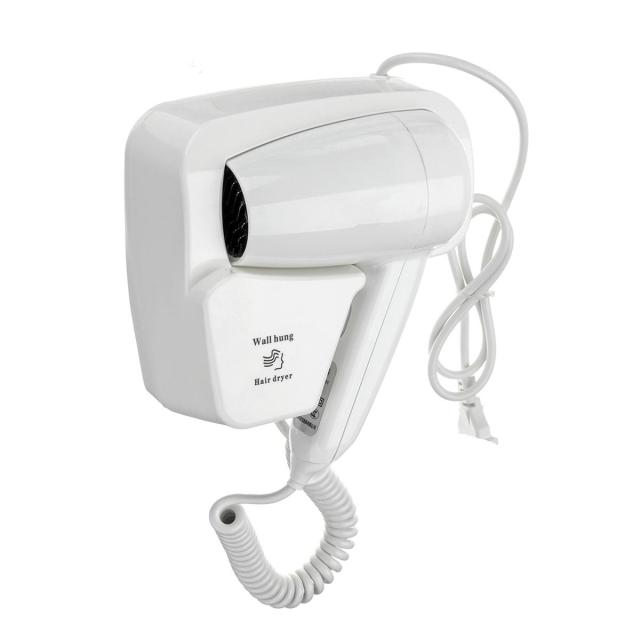dryer: (111, 31, 566, 632)
